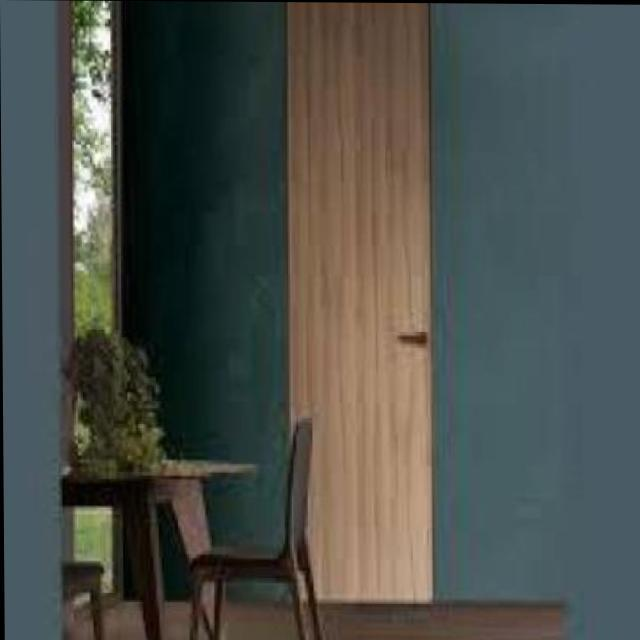door_handle: (386, 325, 430, 355)
